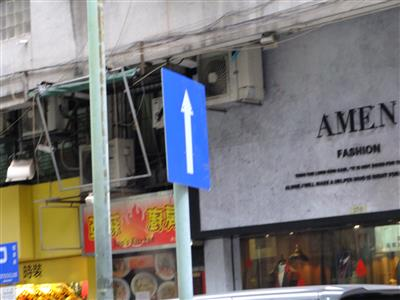oneway: (151, 60, 223, 193)
